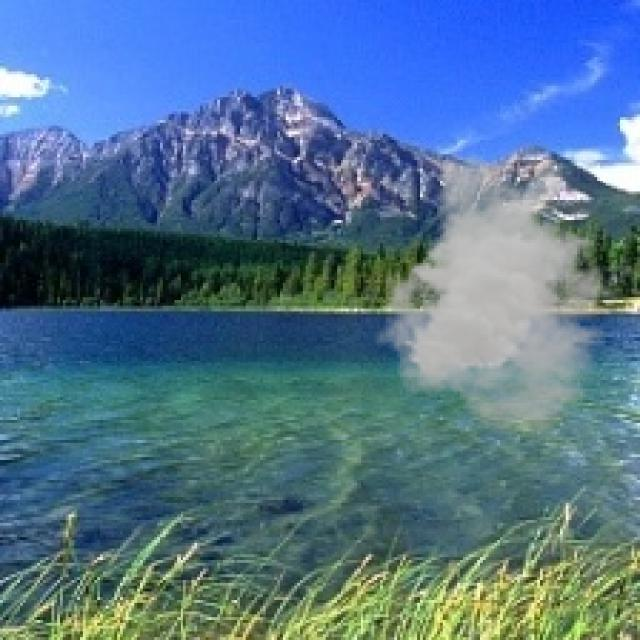smoke: (374, 152, 637, 434)
